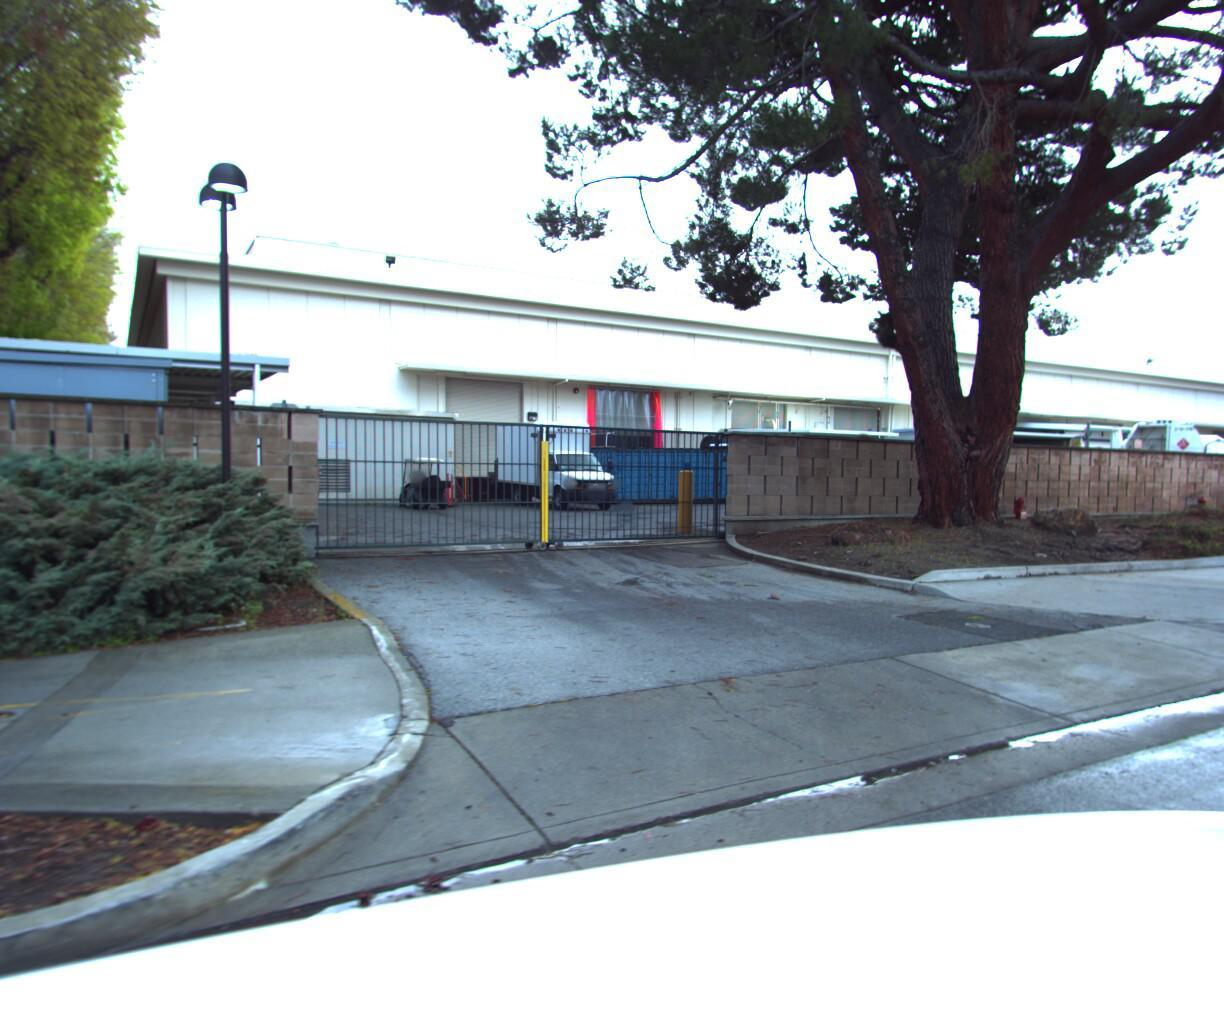truck: (489, 411, 630, 520)
